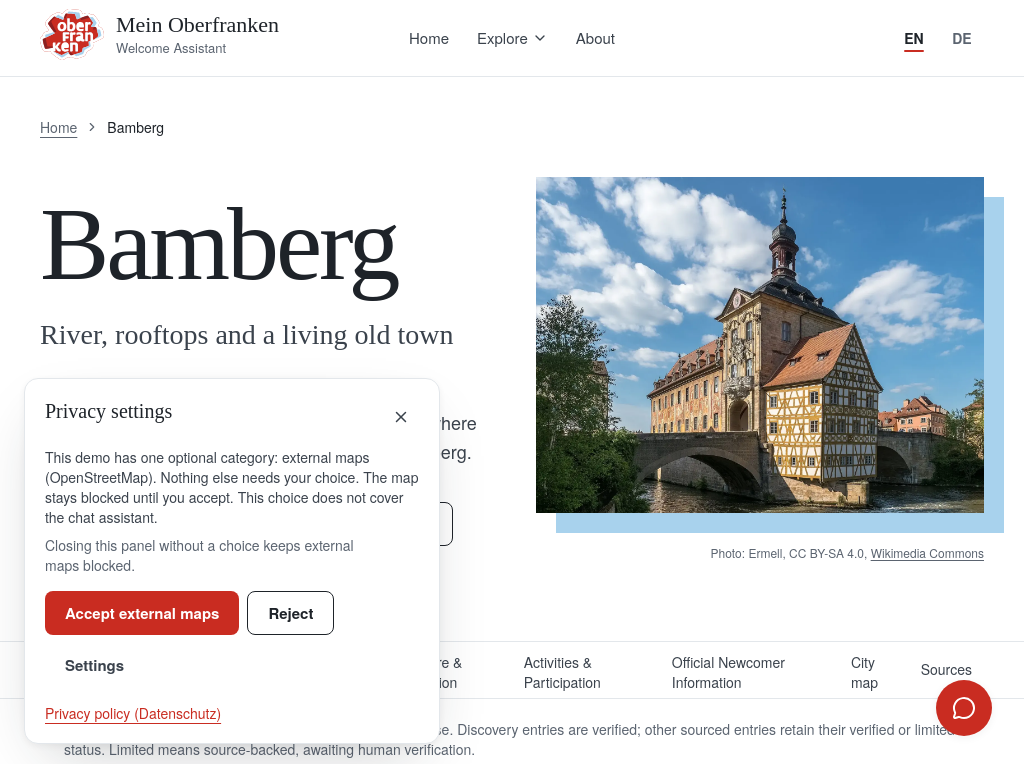
Test case: sources in the chat › renders each message's sources beneath that message only
This screenshot has width=1024, height=764.
Click the button named "Open the welcome assistant". click: (964, 708)
box: left=936, top=680, right=992, bottom=736
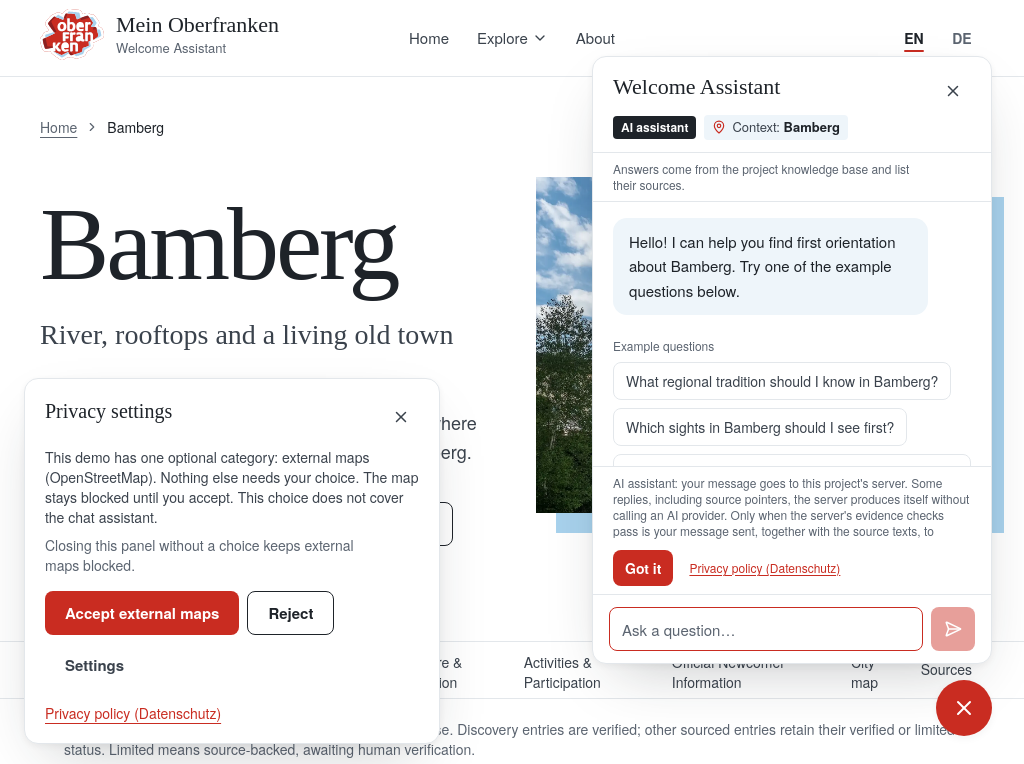
Type "Where to eat?" into the field named "Your message". click: (766, 629)
box: left=609, top=607, right=923, bottom=651
Then press Enter
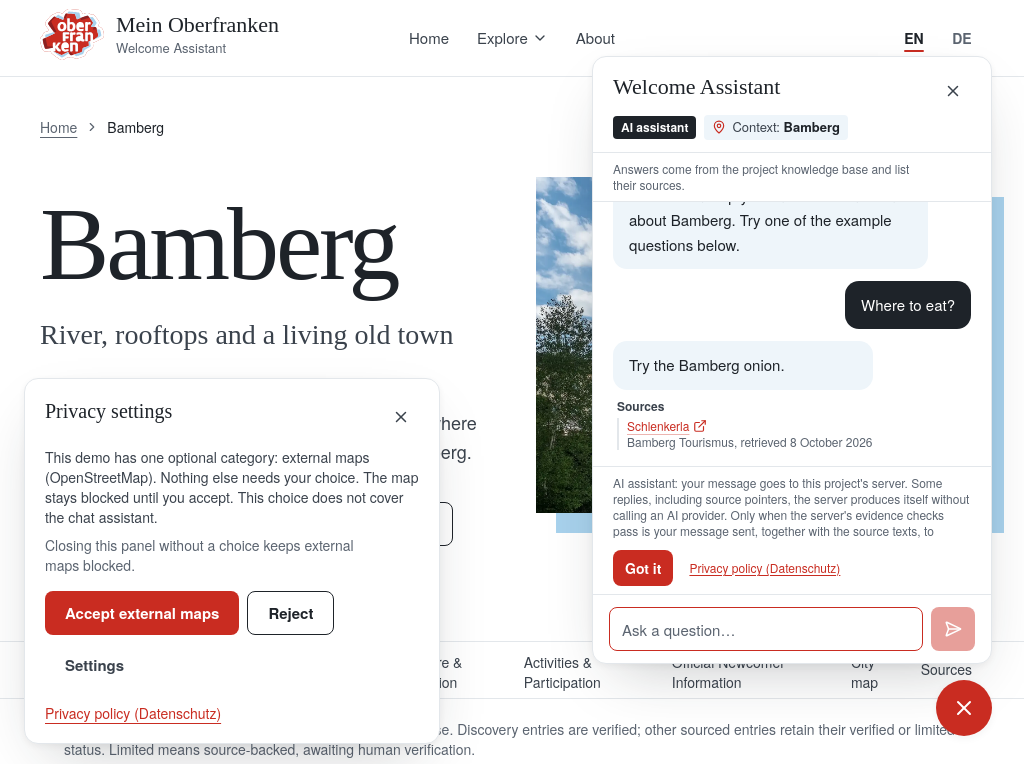
expect the text "Try the Bamberg onion." is shown: met, box left=613, top=341, right=872, bottom=390
Type "What to see?" into the field named "Your message". click: (766, 629)
box: left=609, top=607, right=923, bottom=651
Then press Enter
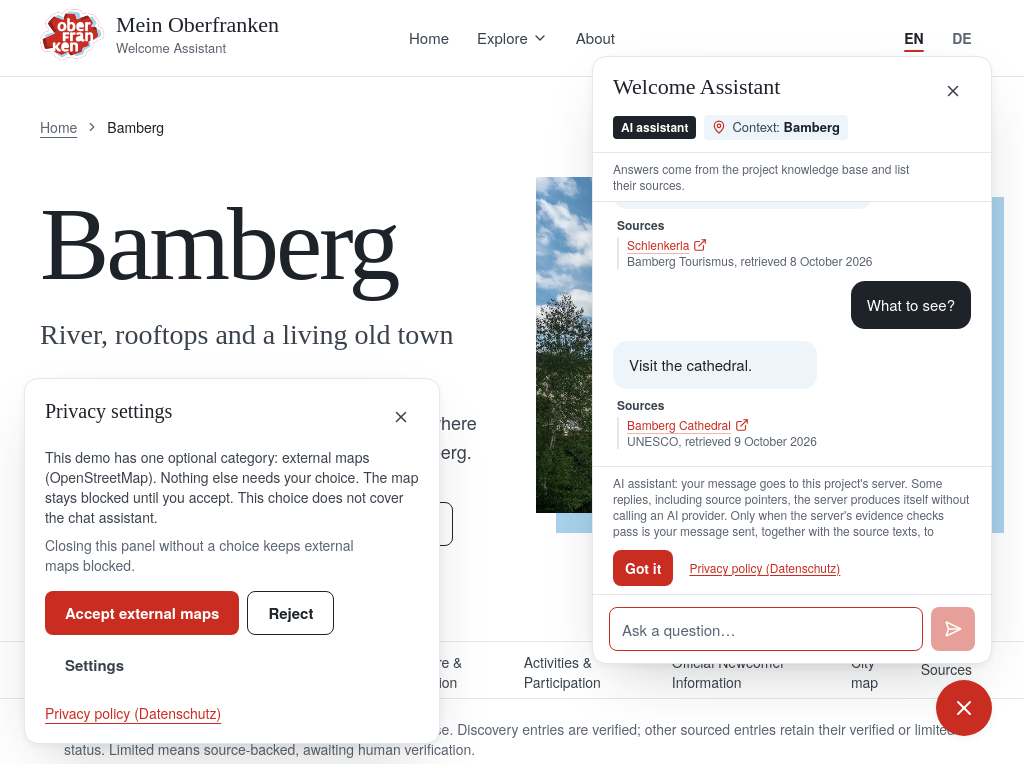
expect the text "Bamberg Tourismus, retrieved 8 October 2026" is shown: met, box left=627, top=253, right=872, bottom=269
expect the text "Visit the cathedral." is shown: met, box left=613, top=341, right=817, bottom=389
expect the text "UNESCO, retrieved 9 October 2026" is shown: met, box left=627, top=433, right=817, bottom=449
